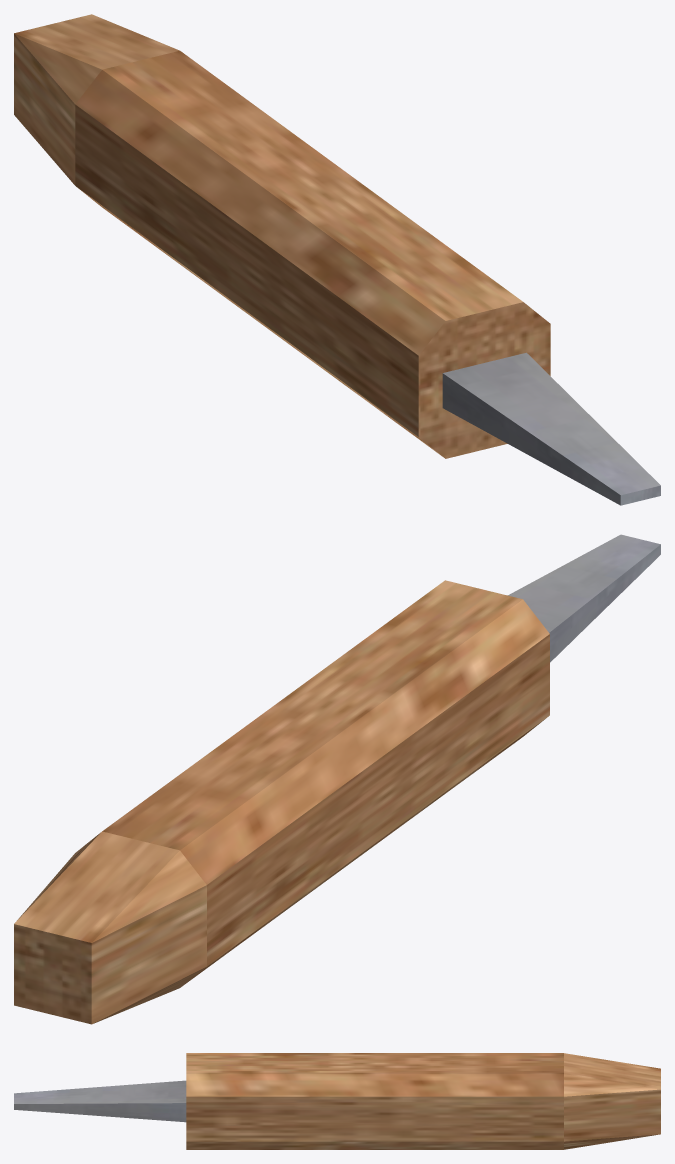
File: whittle.fbx
The picture shows the model from 3 angles, top to bottom: view 1: azimuth 30°, elevation 25°; view 2: azimuth 150°, elevation 25°; view 3: azimuth 270°, elevation 25°; orthographic projection. The views are drawn at different scales.
Parts seen in each view (by area): view 1: whittling tool; view 2: whittling tool; view 3: whittling tool.
Boxes of the visible parts, x1,y1,x2,y2 form: whittling tool: [14, 14, 660, 505]; whittling tool: [14, 534, 660, 1024]; whittling tool: [14, 1053, 660, 1149].
Bounding box in the file's own units: 15.4 × 15.4 × 119.
